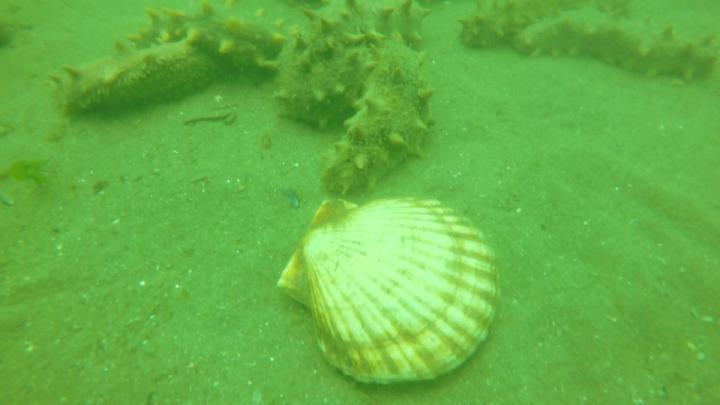holothurian: (273, 1, 435, 133), (314, 31, 437, 196), (512, 5, 720, 85), (46, 41, 217, 128), (127, 2, 285, 83), (456, 1, 619, 55)
scallop: (273, 195, 507, 397)
